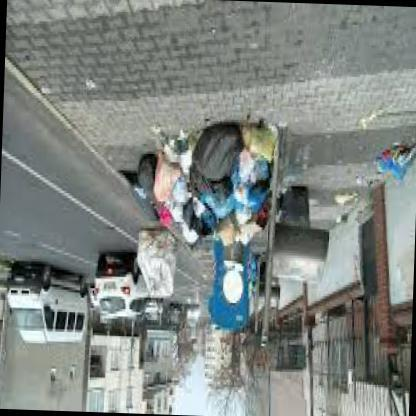Garbage: (194, 116, 244, 187), (374, 140, 416, 188), (154, 152, 177, 204), (230, 160, 266, 192), (247, 121, 275, 160), (234, 216, 262, 244), (180, 197, 202, 230), (247, 202, 266, 232), (209, 191, 231, 214), (196, 218, 210, 243), (160, 211, 169, 229)
